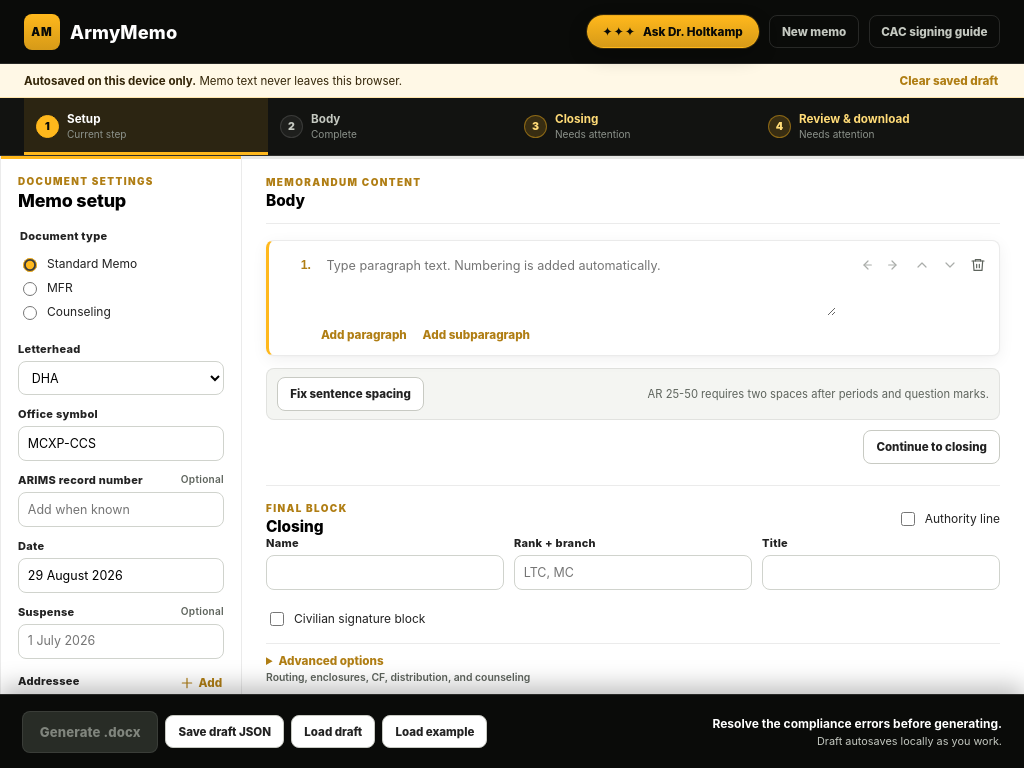
Test: ArmyMemo editor › previews and applies sentence-spacing corrections
This screenshot has width=1024, height=768.
Step 1. Click the button "Load example" → (435, 731), box [382,714,488,748]
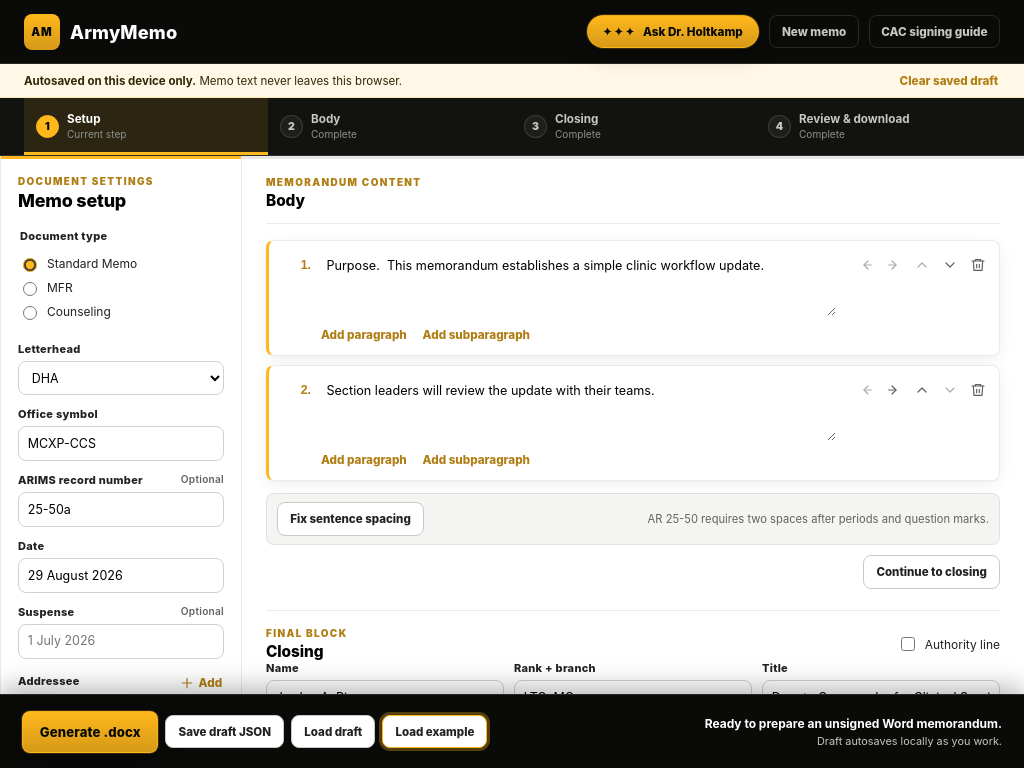
Step 2. Replace the text in the text box named "Paragraph 1" with "Purpose. This needs correction." → (578, 284), box [319,250,837,317]
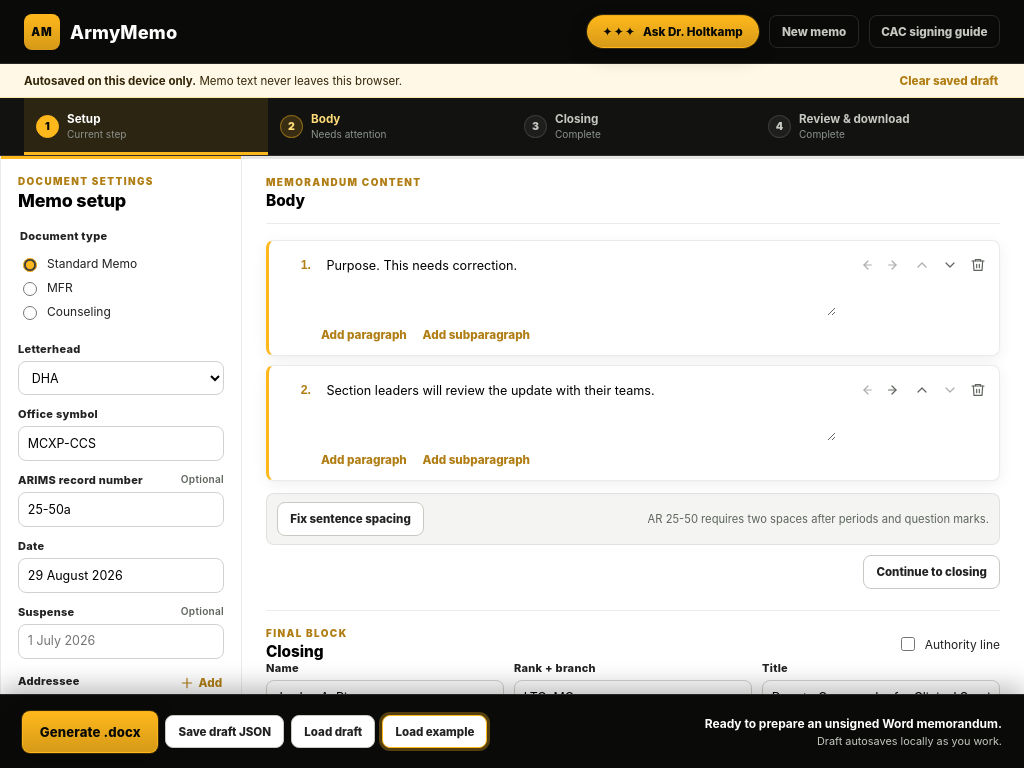
Step 3. Click the button "Fix sentence spacing" → (350, 519), box [277,502,424,536]
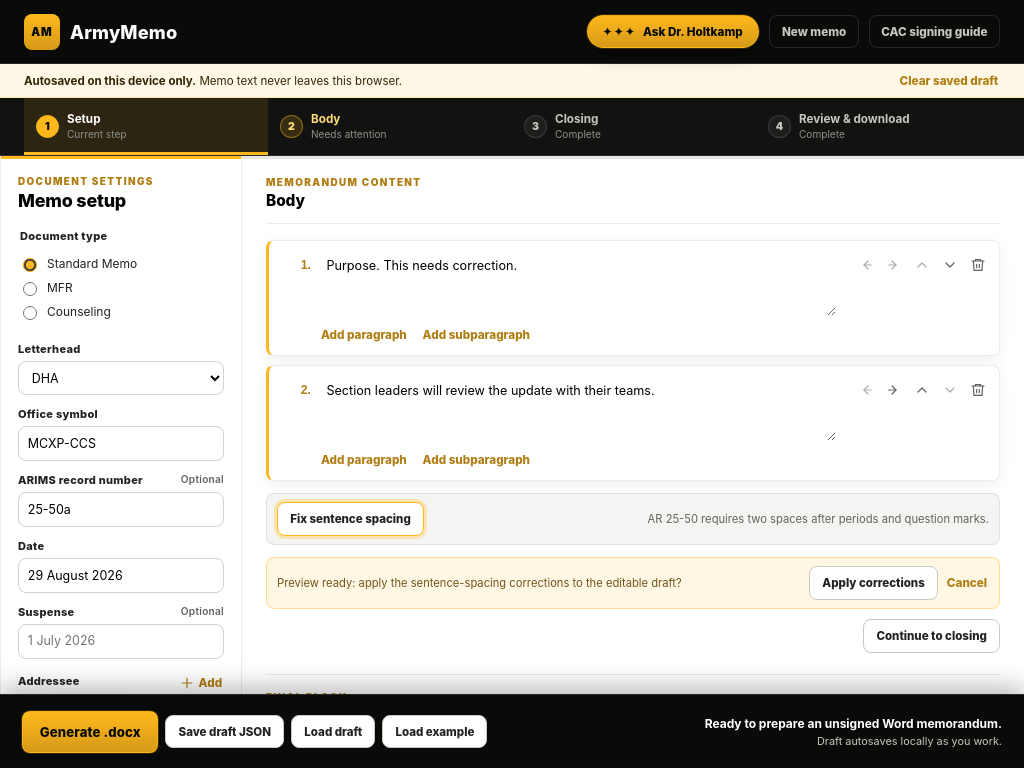
Expected: the text "Preview ready" is shown, [277,576,682,590]
Step 4. Click the button "Apply corrections" → (874, 583), box [809,566,938,600]
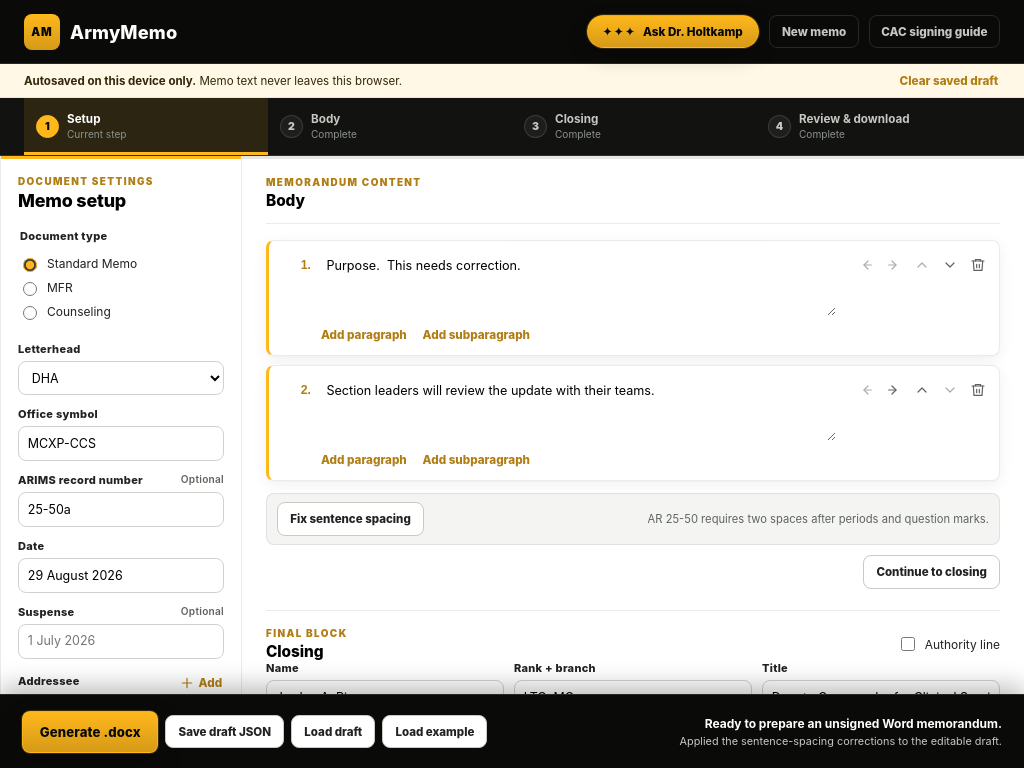
Expected: the text box named "Paragraph 1" holds "Purpose.  This needs correction.", [319,250,837,317]
